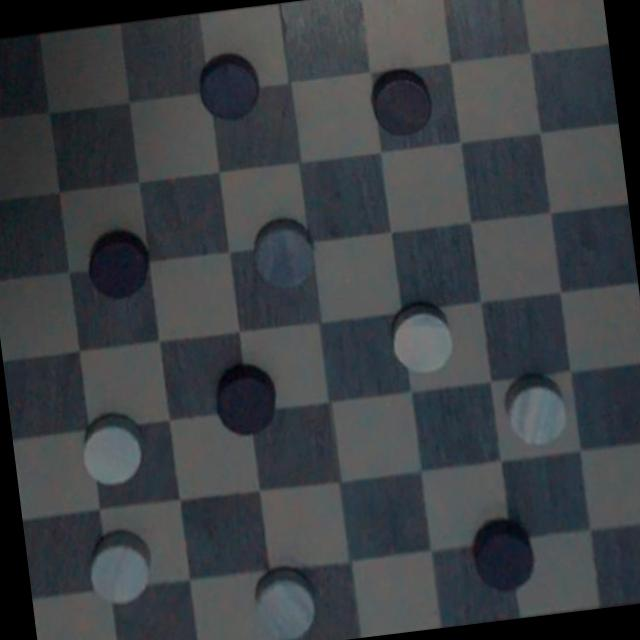BOARD: (0, 0, 640, 640)
black: (353, 64, 439, 152), (205, 352, 285, 443), (466, 510, 546, 598), (190, 44, 268, 130), (82, 220, 154, 310)
white: (70, 401, 158, 496), (77, 522, 165, 616), (236, 208, 323, 302), (244, 551, 325, 640), (498, 363, 575, 452), (382, 297, 461, 382)
